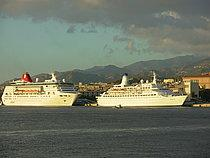Ship: (95, 71, 192, 113), (2, 72, 88, 111)
